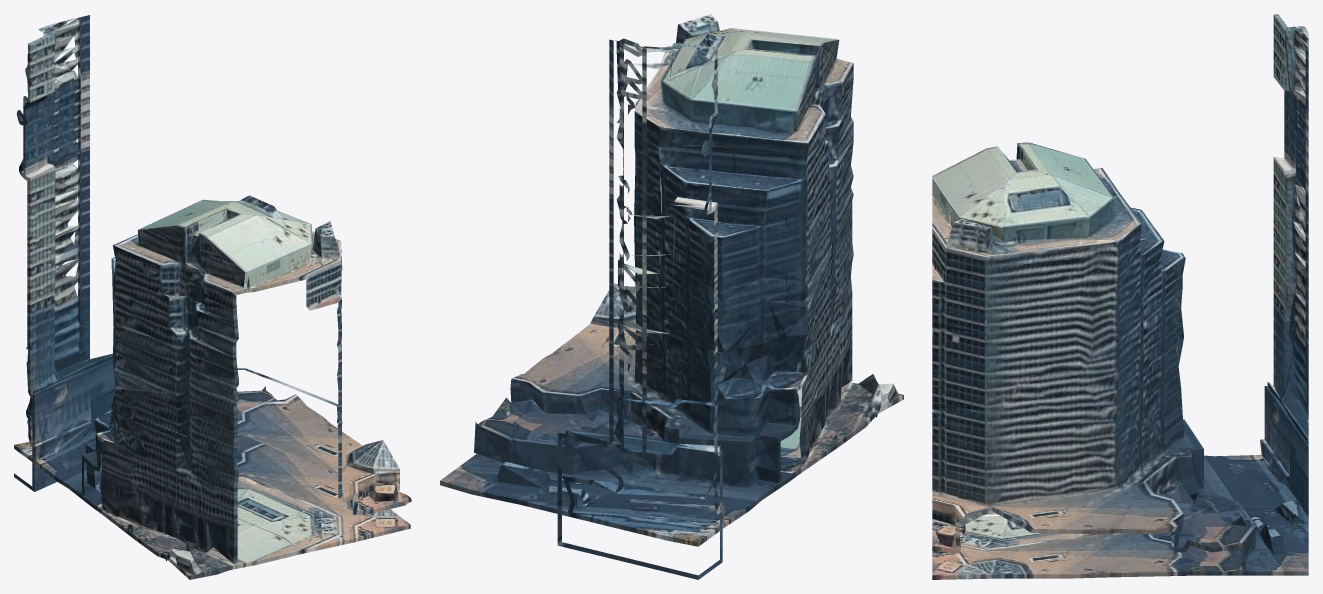
File: chunk_-8_-5.glb
3 renders of one model, left to right at view 1: azimuth 30°, elevation 25°; view 2: azimuth 150°, elevation 25°; view 3: azimuth 270°, elevation 25°, orthographic. The views are drawn at different scales.
Visible parts, largest first — view 1: hero-chunk; view 2: hero-chunk; view 3: hero-chunk.
Part boxes in pixels (left/top/right/bottom): hero-chunk: left=14, top=15, right=411, bottom=579; hero-chunk: left=440, top=14, right=903, bottom=579; hero-chunk: left=932, top=14, right=1308, bottom=579.
Size of the model in its own units: 56.34 by 107 by 76.33.
Materials: 4 (4 with a texture image).
